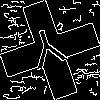Y: (25, 25, 72, 79)
